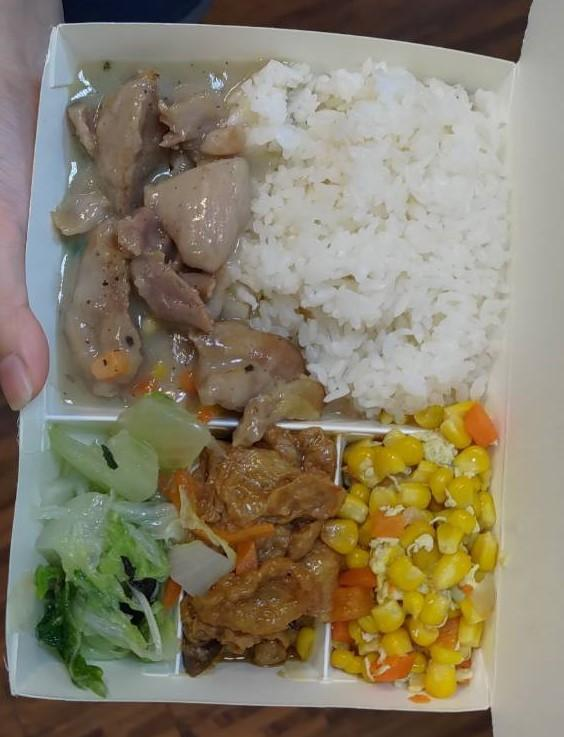big grilled chicken leg: (15, 7, 529, 723)
big herbal chicken leg: (235, 42, 512, 418)
braised fish fillet: (342, 405, 491, 696), (178, 422, 342, 671), (45, 415, 188, 676)
braised pork: (50, 25, 266, 403)
